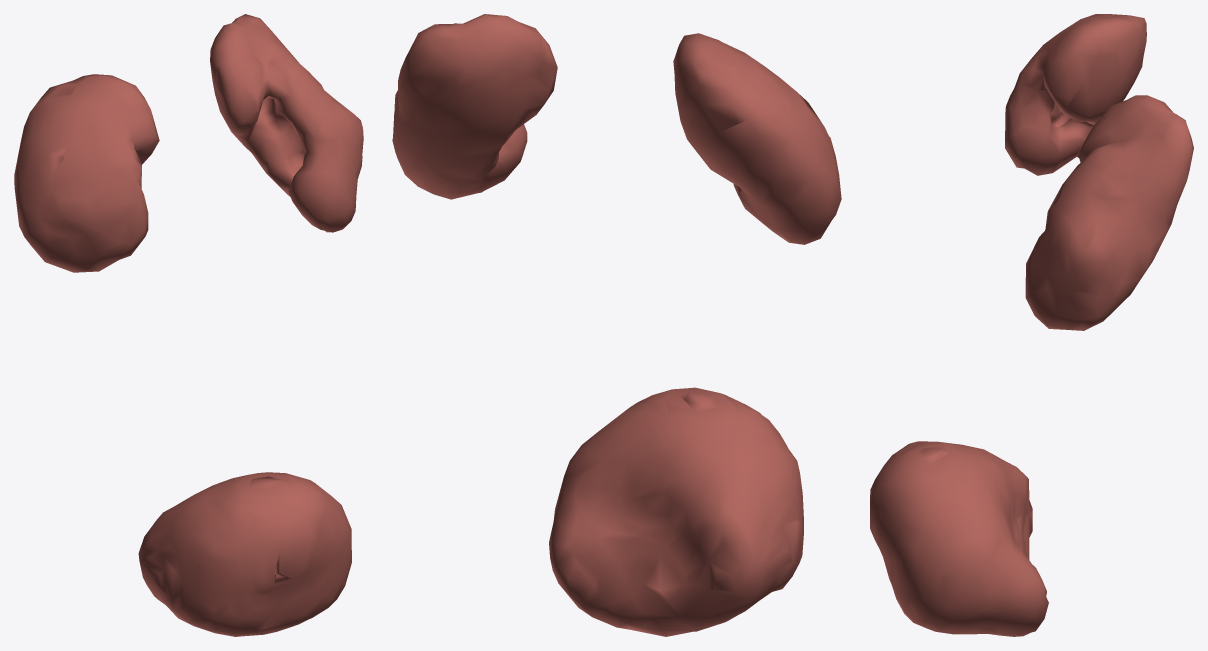
Rendered from tsd_s0196_older_adult_female.urinary.LOD4.glb.
The picture shows the model from 3 angles, left to right: view 1: azimuth 30°, elevation 25°; view 2: azimuth 150°, elevation 25°; view 3: azimuth 270°, elevation 25°; orthographic projection. The views are drawn at different scales.
Visible parts, largest first — view 1: TSD_S0196.OLDER_ADULT.FEMALE.URINARY.URINARY_BLADDER, TSD_S0196.OLDER_ADULT.FEMALE.URINARY.KIDNEY.R, TSD_S0196.OLDER_ADULT.FEMALE.URINARY.KIDNEY.L; view 2: TSD_S0196.OLDER_ADULT.FEMALE.URINARY.URINARY_BLADDER, TSD_S0196.OLDER_ADULT.FEMALE.URINARY.KIDNEY.L, TSD_S0196.OLDER_ADULT.FEMALE.URINARY.KIDNEY.R; view 3: TSD_S0196.OLDER_ADULT.FEMALE.URINARY.URINARY_BLADDER, TSD_S0196.OLDER_ADULT.FEMALE.URINARY.KIDNEY.L, TSD_S0196.OLDER_ADULT.FEMALE.URINARY.KIDNEY.R.
Part boxes in pixels (x1,y1,x2,y2): TSD_S0196.OLDER_ADULT.FEMALE.URINARY.URINARY_BLADDER: [138, 472, 351, 636]; TSD_S0196.OLDER_ADULT.FEMALE.URINARY.KIDNEY.R: [14, 74, 159, 272]; TSD_S0196.OLDER_ADULT.FEMALE.URINARY.KIDNEY.L: [210, 14, 363, 232]; TSD_S0196.OLDER_ADULT.FEMALE.URINARY.URINARY_BLADDER: [549, 387, 803, 636]; TSD_S0196.OLDER_ADULT.FEMALE.URINARY.KIDNEY.L: [392, 14, 557, 199]; TSD_S0196.OLDER_ADULT.FEMALE.URINARY.KIDNEY.R: [673, 33, 841, 244]; TSD_S0196.OLDER_ADULT.FEMALE.URINARY.URINARY_BLADDER: [870, 441, 1048, 636]; TSD_S0196.OLDER_ADULT.FEMALE.URINARY.KIDNEY.L: [1025, 95, 1193, 330]; TSD_S0196.OLDER_ADULT.FEMALE.URINARY.KIDNEY.R: [1005, 14, 1146, 175].
Bounding box in the file's own units: 0.1834 × 0.2714 × 0.1407.
